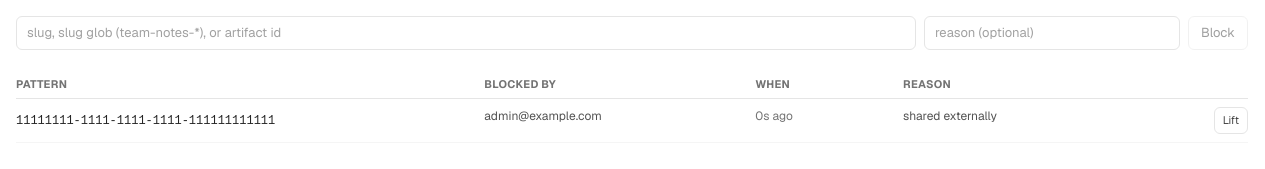
Test: BlocksManager › links a slugless document by its artifact id
Click the button "11111111-1111-1111-1111-111111111111": (146, 121) [16,112,275,130]
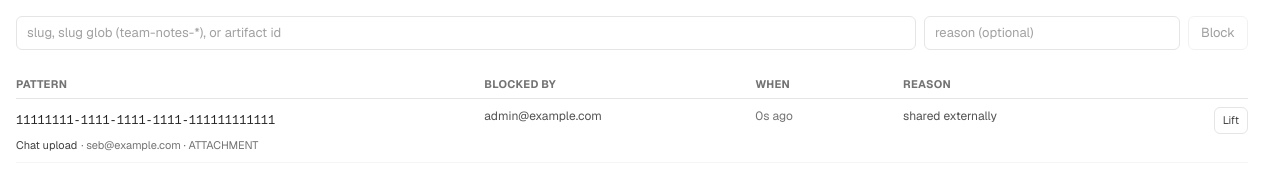
Expected: the text "Chat upload" is shown, [16,138,77,152]
